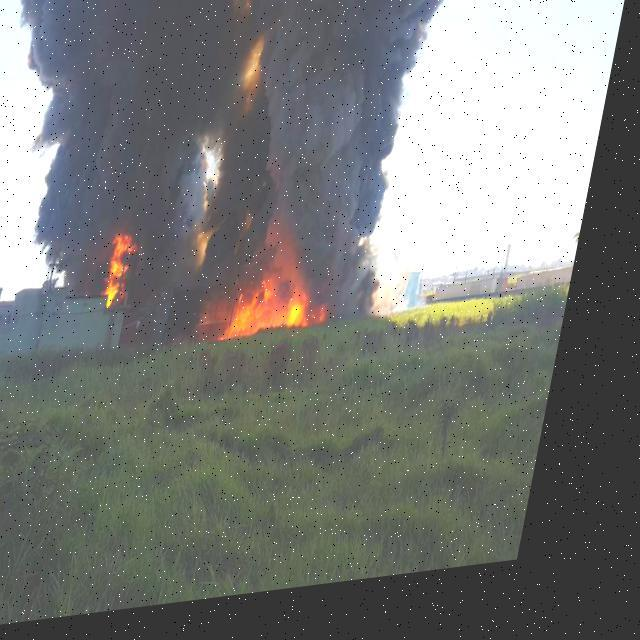Fire: (228, 264, 352, 356), (105, 226, 151, 318)
